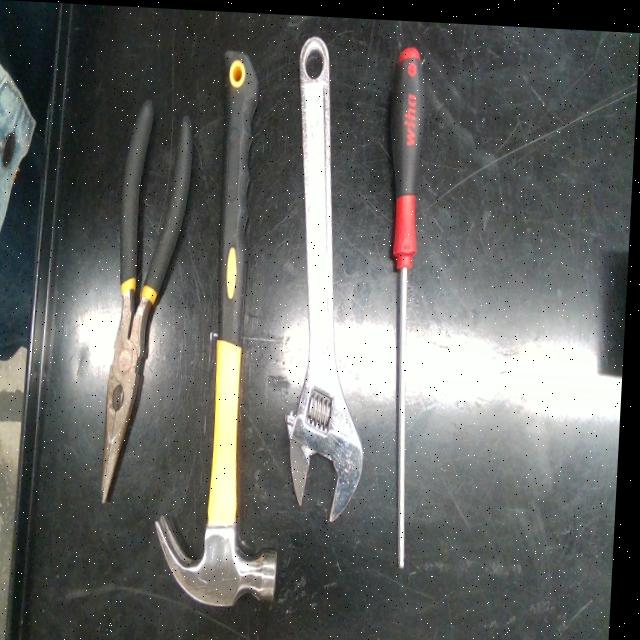Screwdriver: (392, 43, 426, 564)
